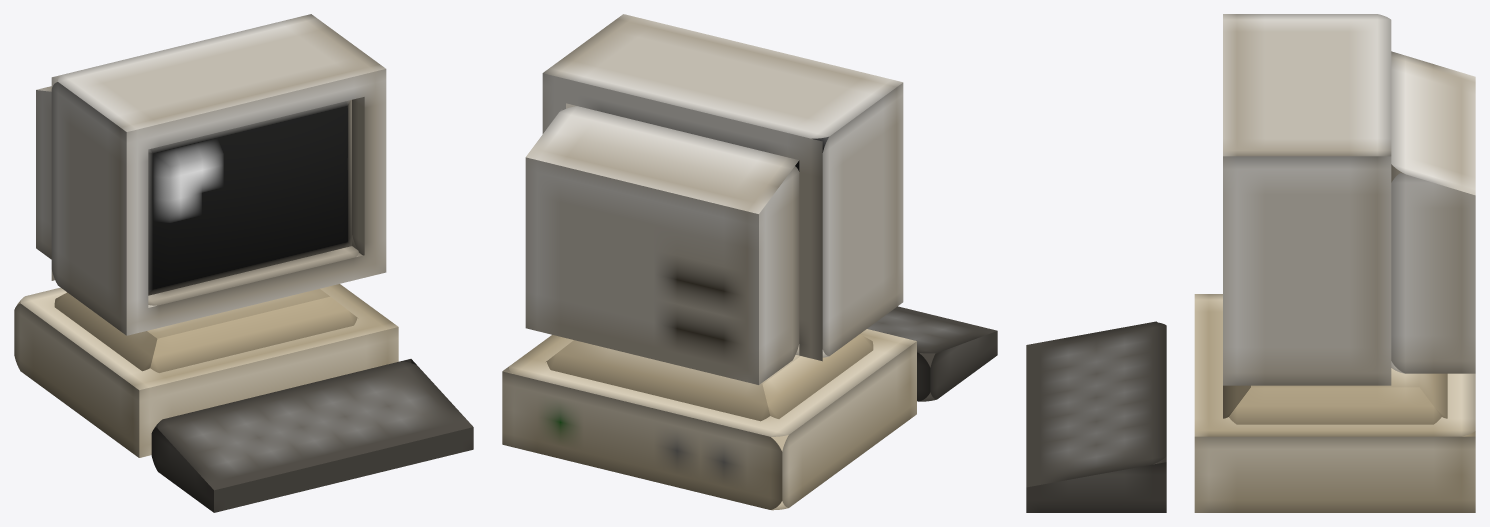
Rendered from puter.obj.
3 views of the same model, side by side, from view 1: azimuth 30°, elevation 25°; view 2: azimuth 150°, elevation 25°; view 3: azimuth 270°, elevation 25° (orthographic). The views are drawn at different scales.
Visible parts, largest first — view 1: puter_model; view 2: puter_model; view 3: puter_model.
Part boxes in pixels (x1,y1,x2,y2): puter_model: [14, 14, 473, 512]; puter_model: [502, 14, 997, 510]; puter_model: [1026, 14, 1475, 512].
Size of the model in its own units: 0.75 by 0.875 by 1.
